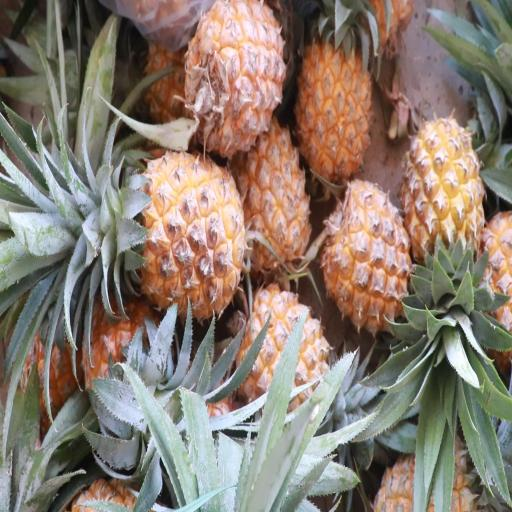Pineapple - v8 v1: (80, 149, 250, 327), (228, 278, 341, 435), (180, 0, 288, 163), (399, 115, 487, 312), (318, 178, 413, 347), (292, 19, 375, 203)
